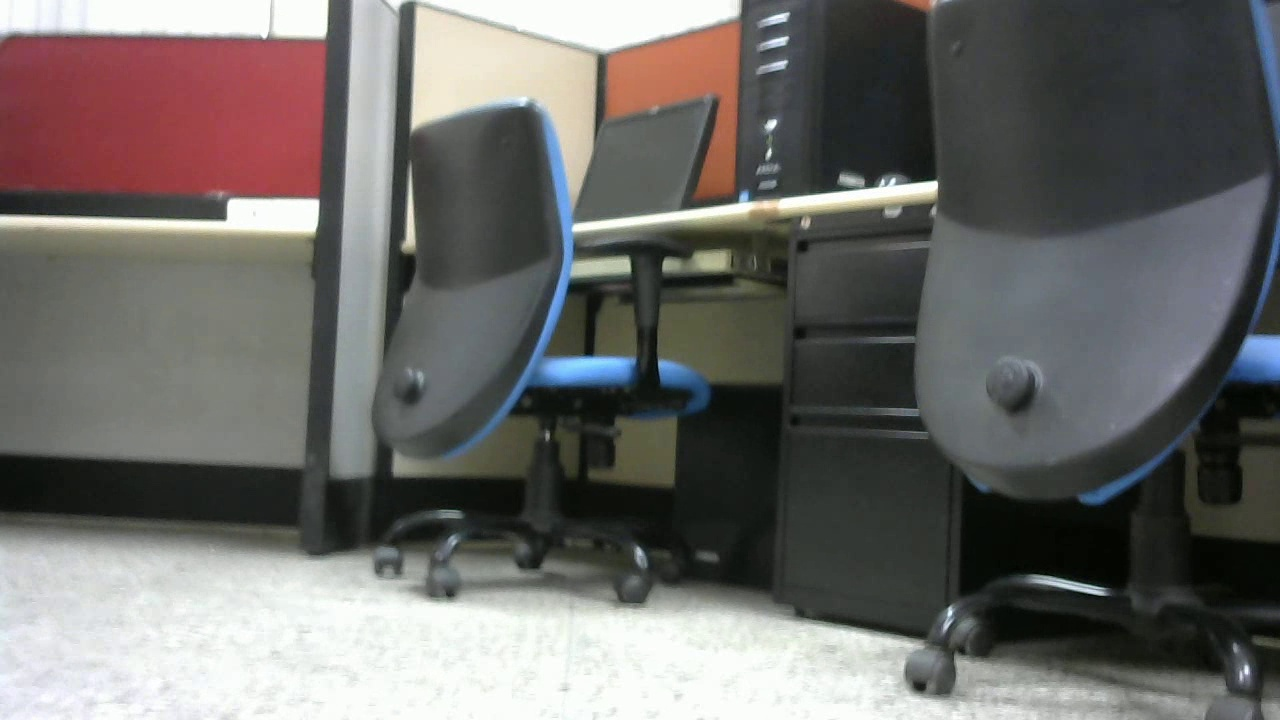chair: (373, 93, 719, 625)
